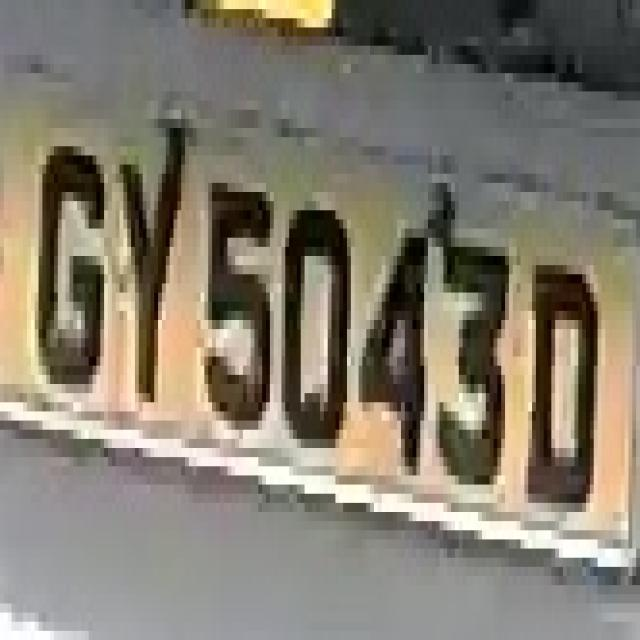0: (278, 146, 347, 466)
3: (443, 192, 517, 521)
4: (351, 192, 439, 530)
5: (196, 146, 282, 448)
D: (517, 220, 609, 548)
G: (27, 110, 104, 411)
Y: (108, 101, 189, 457)
